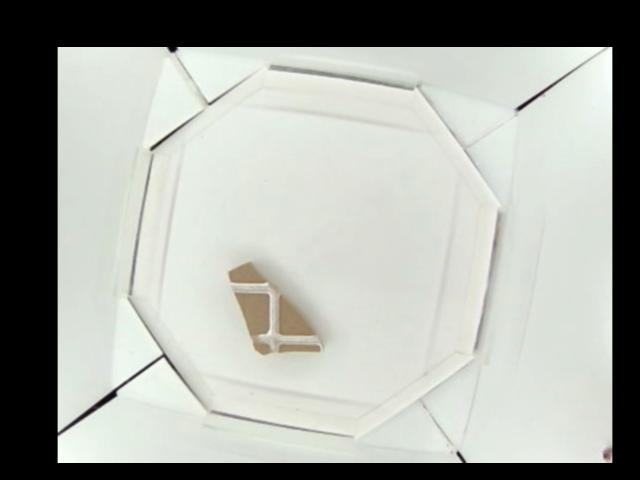China: (226, 262, 320, 355)
